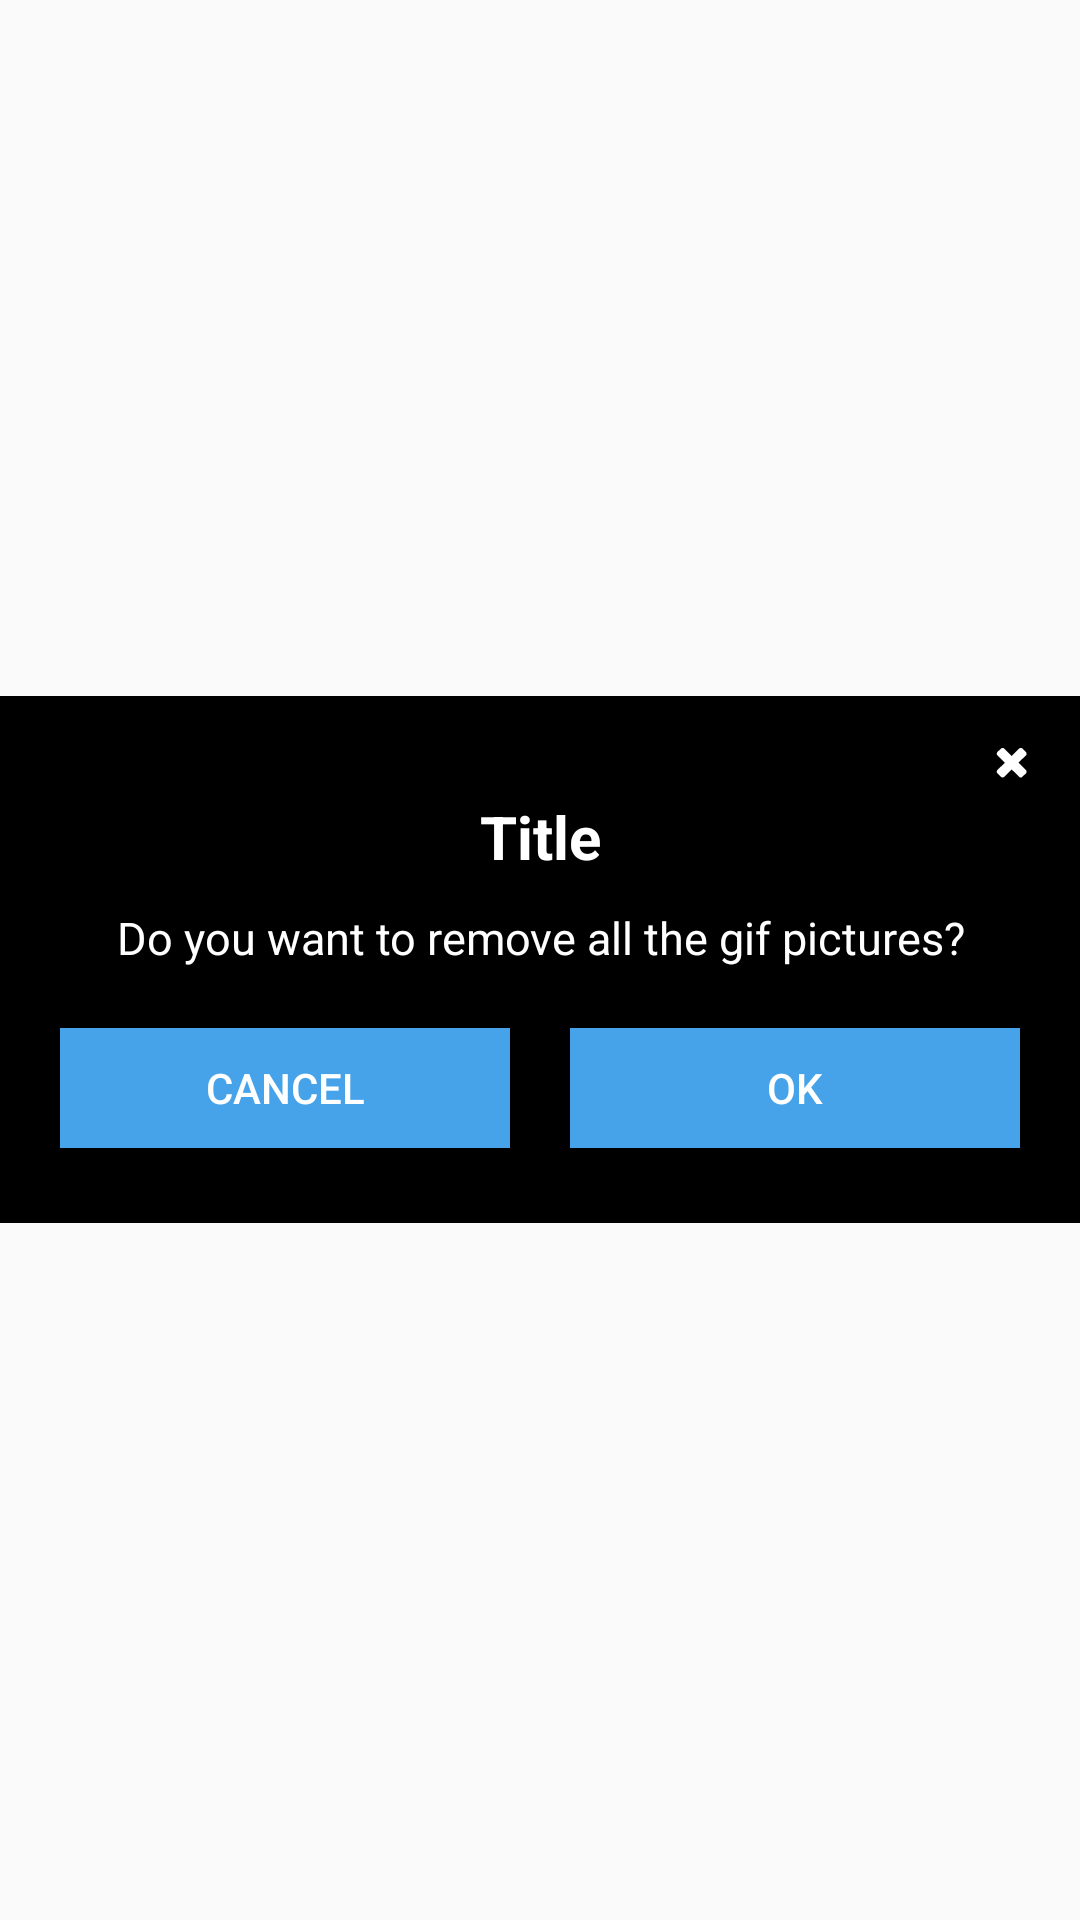

Screen size 1080×1920. Icon name, then its box in pixels as region(x1, y1, x2, y2):
cancel: region(996, 748, 1027, 778)
